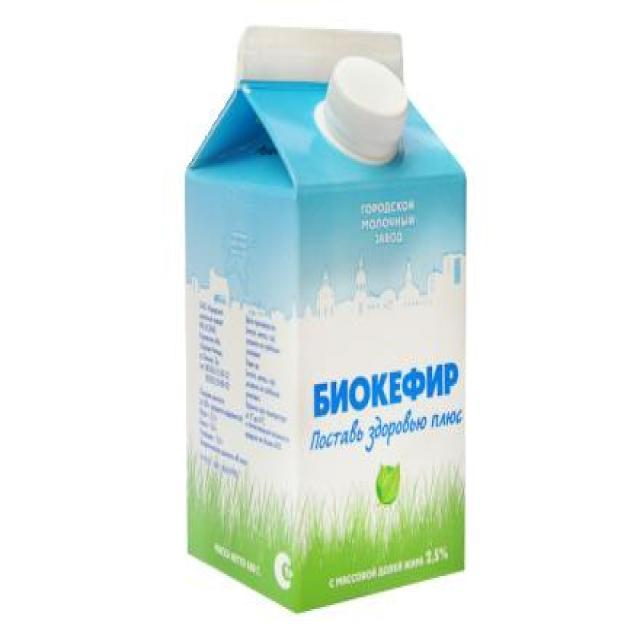Carton: (170, 6, 490, 632)
